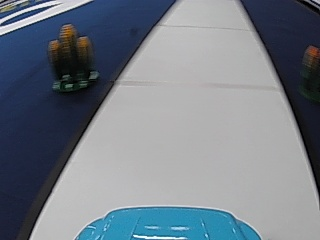corn: (47, 21, 96, 94)
